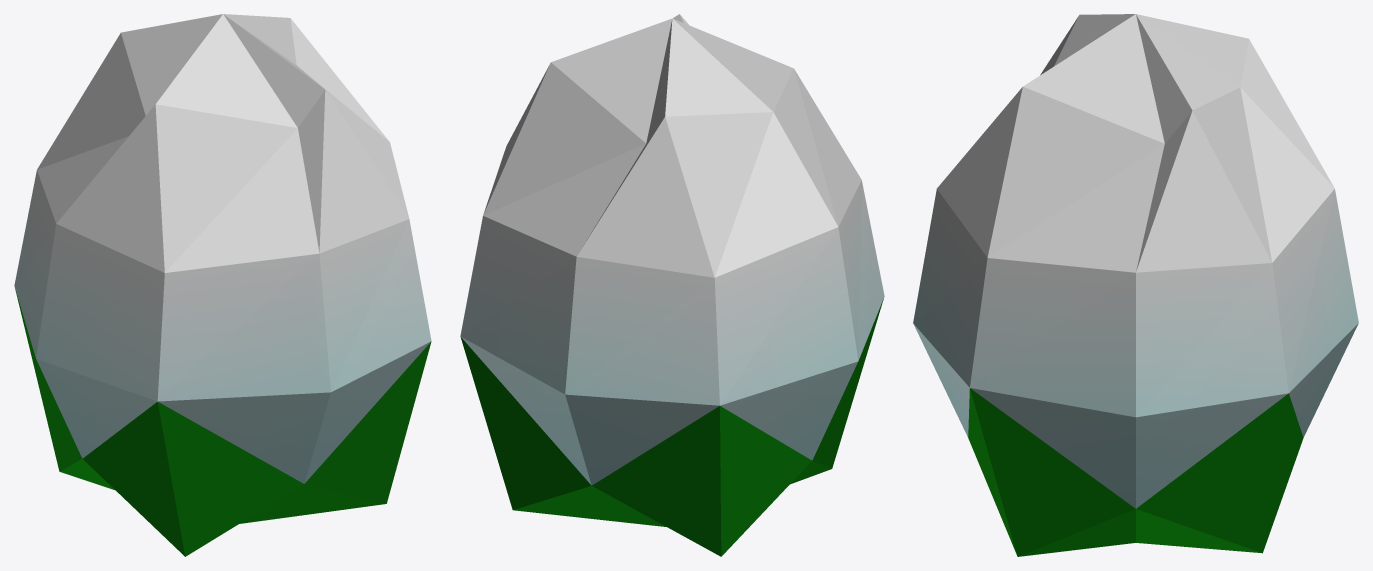
File: bud.dae
3 renders of one model, left to right at view 1: azimuth 30°, elevation 25°; view 2: azimuth 150°, elevation 25°; view 3: azimuth 270°, elevation 25°, orthographic. The views are drawn at different scales.
Visible parts, largest first — view 1: m0; view 2: m0; view 3: m0.
Part boxes in pixels (x1=…): m0: x1=14, y1=14, x2=431, y2=556; m0: x1=460, y1=14, x2=884, y2=556; m0: x1=913, y1=14, x2=1358, y2=556.
Bounding box in the file's own units: 4.86 × 6.37 × 4.86.
